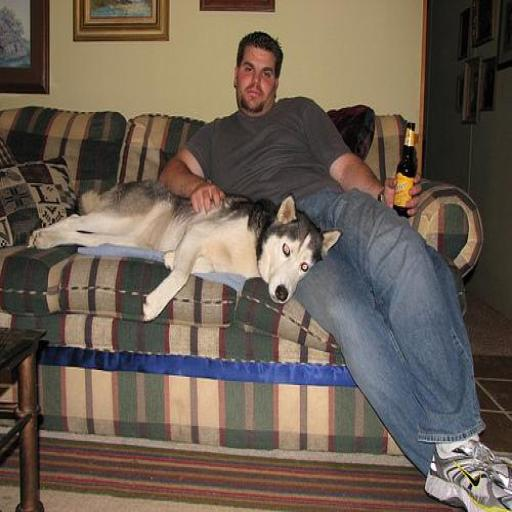dog_face: (260, 200, 338, 307)
